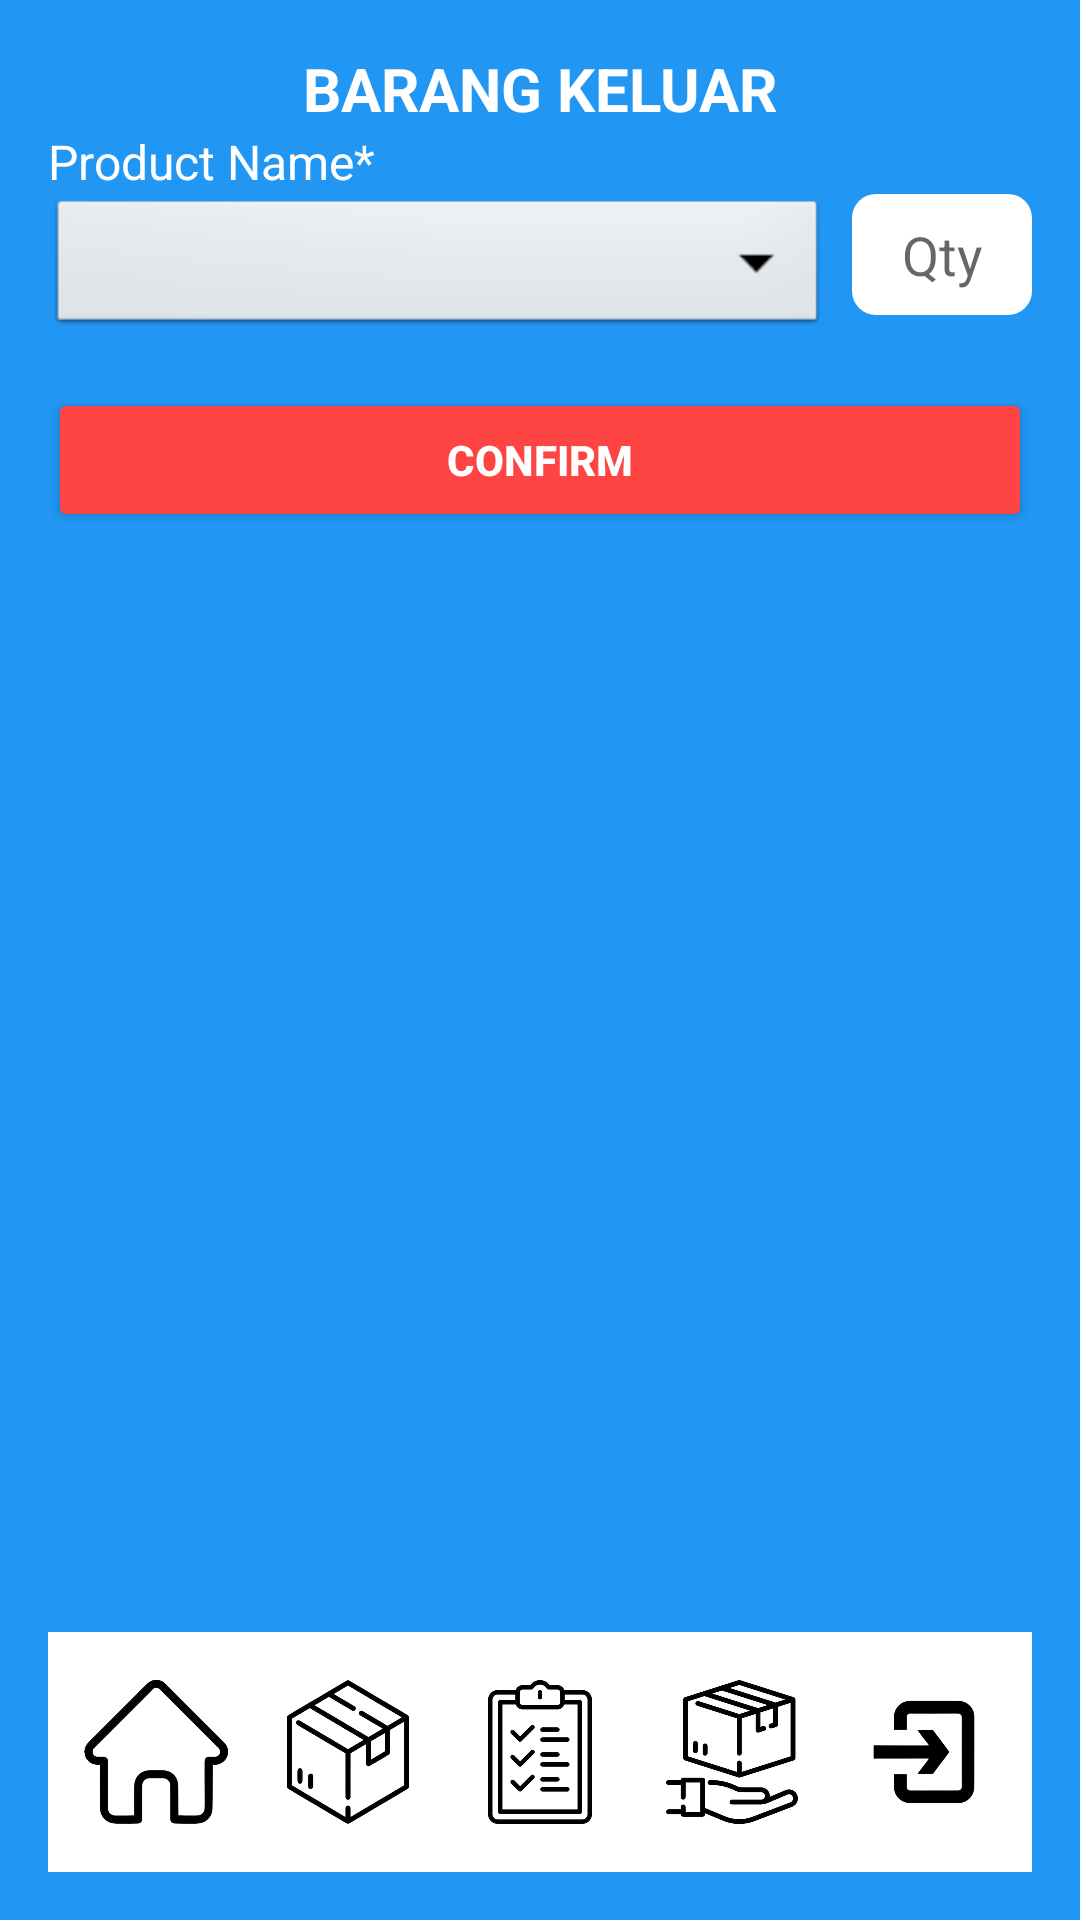

Point at icon controls on the screen. Image size 1080*1920, points as (x=x, y=y).
beranda: (x=156, y=1752)
